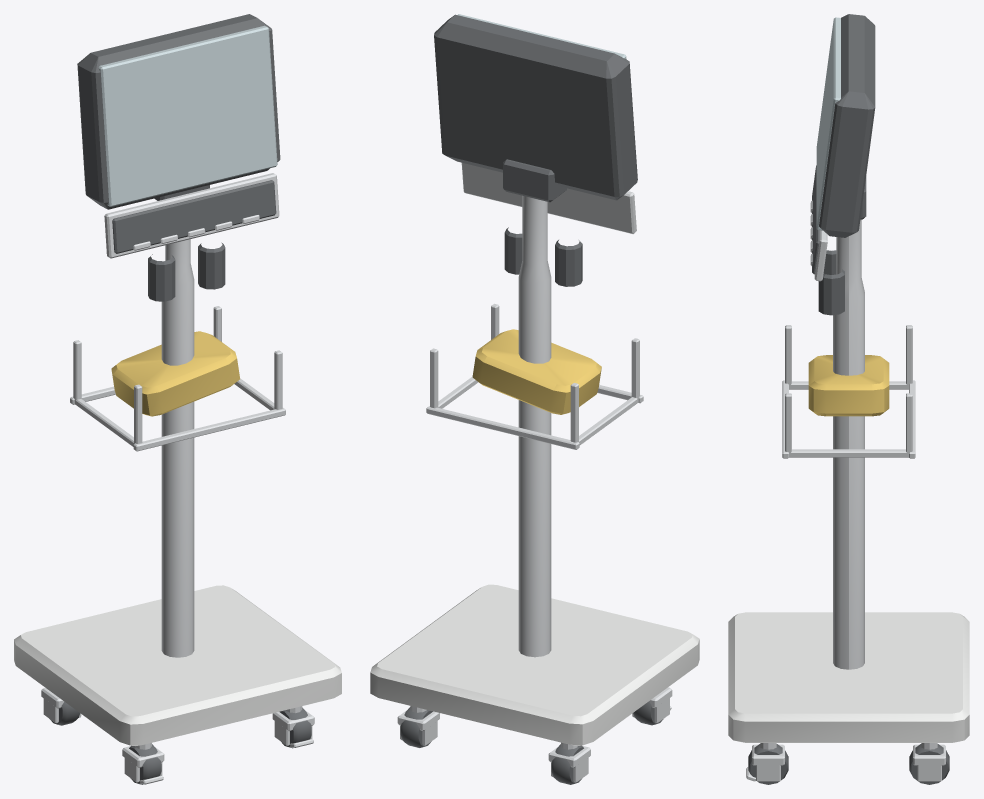
The model's file is clinic-and-veterinary-practice-vital-signs-monitor-car-3115768d__16754.glb.
The picture shows the model from 3 angles, left to right: view 1: azimuth 30°, elevation 25°; view 2: azimuth 150°, elevation 25°; view 3: azimuth 270°, elevation 25°; orthographic projection.
Visible parts, largest first — view 1: vital-signs-monitor-cart; view 2: vital-signs-monitor-cart; view 3: vital-signs-monitor-cart.
Part boxes in pixels (<box>): vital-signs-monitor-cart: <box>14,14,341,784</box>; vital-signs-monitor-cart: <box>370,14,699,784</box>; vital-signs-monitor-cart: <box>728,14,969,784</box>.
Size of the model in its own units: 0.44 by 1.33 by 0.42.
